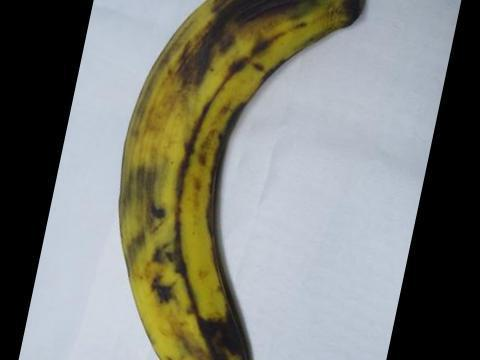overripe: (92, 0, 375, 359)
